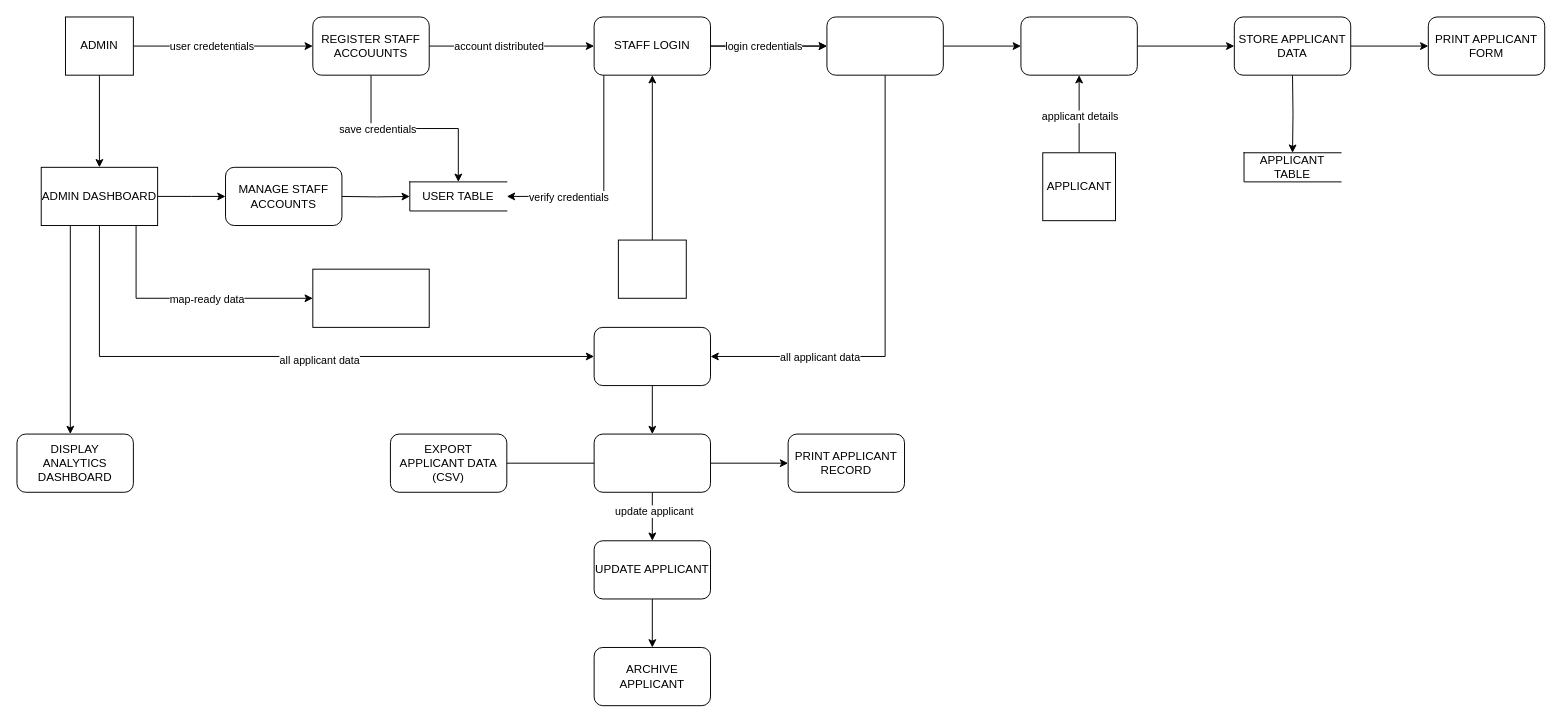
Image size: 1562x723. Some labels were removed from this diagram. The centre of each missing label's shape, as x and y in pixels:
"DISPLAY APPLICANTS" belongs at pixel 652 356.
"MANAGE APPLICANTS RECORDS" belongs at pixel 652 462.
"RENDER GEOSPATIAL MAP" belongs at pixel 370 297.
"STAFF" belongs at pixel 651 268.
"SUBMIT APPLICANT INFO" belongs at pixel 1078 45.
"USER DASHBOARD" belongs at pixel 884 45.
